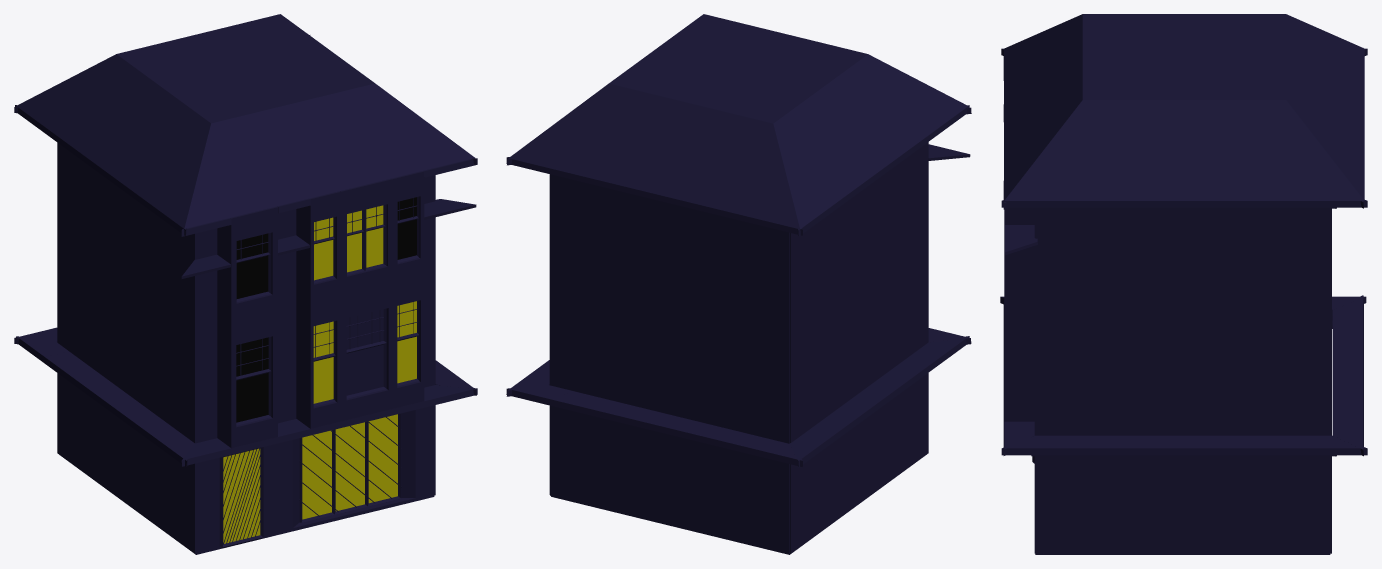
Rendered from Haus 1.fbx.
The picture shows the model from 3 angles, left to right: view 1: azimuth 30°, elevation 25°; view 2: azimuth 150°, elevation 25°; view 3: azimuth 270°, elevation 25°; orthographic projection. The views are drawn at different scales.
Visible parts, largest first — view 1: polySurface213, polySurface201, polySurface93, polySurface173, polySurface99, polySurface107, polySurface151, polySurface205, polySurface199, polySurface144, polySurface214, polySurface200 (+4 smaller); view 2: polySurface94, polySurface213, polySurface201, polySurface211, polySurface205, polySurface207, polySurface214, polySurface212, polySurface206, polySurface239, polySurface203; view 3: polySurface239, polySurface213, polySurface203, polySurface151, polySurface211, polySurface209, polySurface204, polySurface199, polySurface72, polySurface94, polySurface212, polySurface93 (+1 smaller).
Part boxes in pixels (x1,y1,x2,y2): polySurface213: (16, 14, 474, 228); polySurface201: (57, 142, 196, 553); polySurface93: (196, 175, 434, 553); polySurface173: (217, 206, 277, 448); polySurface99: (340, 178, 394, 421); polySurface107: (296, 191, 340, 428); polySurface151: (393, 171, 424, 408); polySurface205: (44, 351, 194, 466); polySurface199: (231, 385, 477, 454); polySurface144: (343, 204, 393, 420); polySurface214: (43, 126, 186, 235); polySurface200: (181, 438, 231, 466); polySurface94: (550, 174, 789, 553); polySurface213: (509, 14, 968, 229); polySurface201: (789, 142, 928, 553); polySurface211: (556, 390, 802, 466); polySurface205: (803, 336, 969, 445); polySurface207: (556, 170, 802, 235); polySurface214: (827, 105, 969, 215); polySurface212: (506, 385, 570, 406); polySurface206: (789, 434, 827, 466); polySurface239: (549, 174, 550, 494); polySurface203: (506, 360, 549, 396); polySurface239: (1035, 208, 1330, 554); polySurface213: (1004, 14, 1364, 200); polySurface203: (1063, 435, 1367, 456); polySurface151: (1004, 207, 1034, 421); polySurface211: (1332, 295, 1363, 428); polySurface209: (1063, 200, 1367, 208); polySurface204: (1001, 435, 1063, 456); polySurface199: (1003, 323, 1034, 455); polySurface72: (1005, 225, 1037, 255); polySurface94: (1330, 208, 1331, 553); polySurface212: (1332, 423, 1363, 456); polySurface93: (1034, 209, 1035, 553).
Size of the model in its own units: 1119 by 1467 by 1122.
